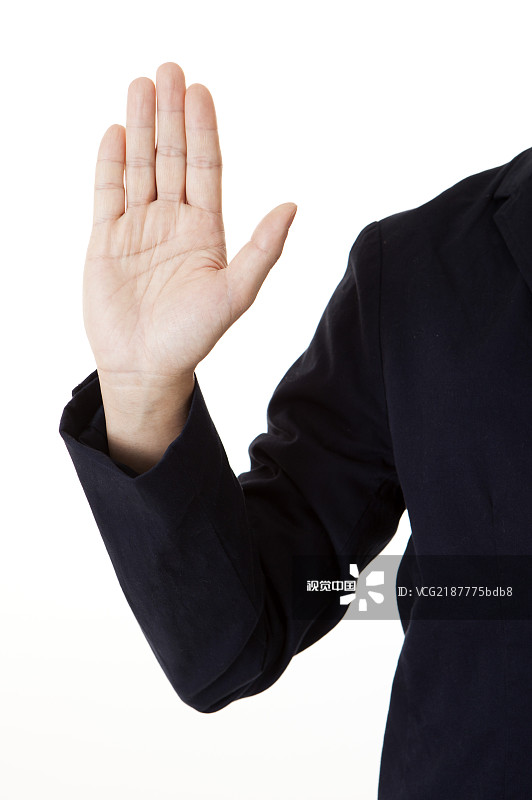no-phone: (66, 46, 311, 413)
